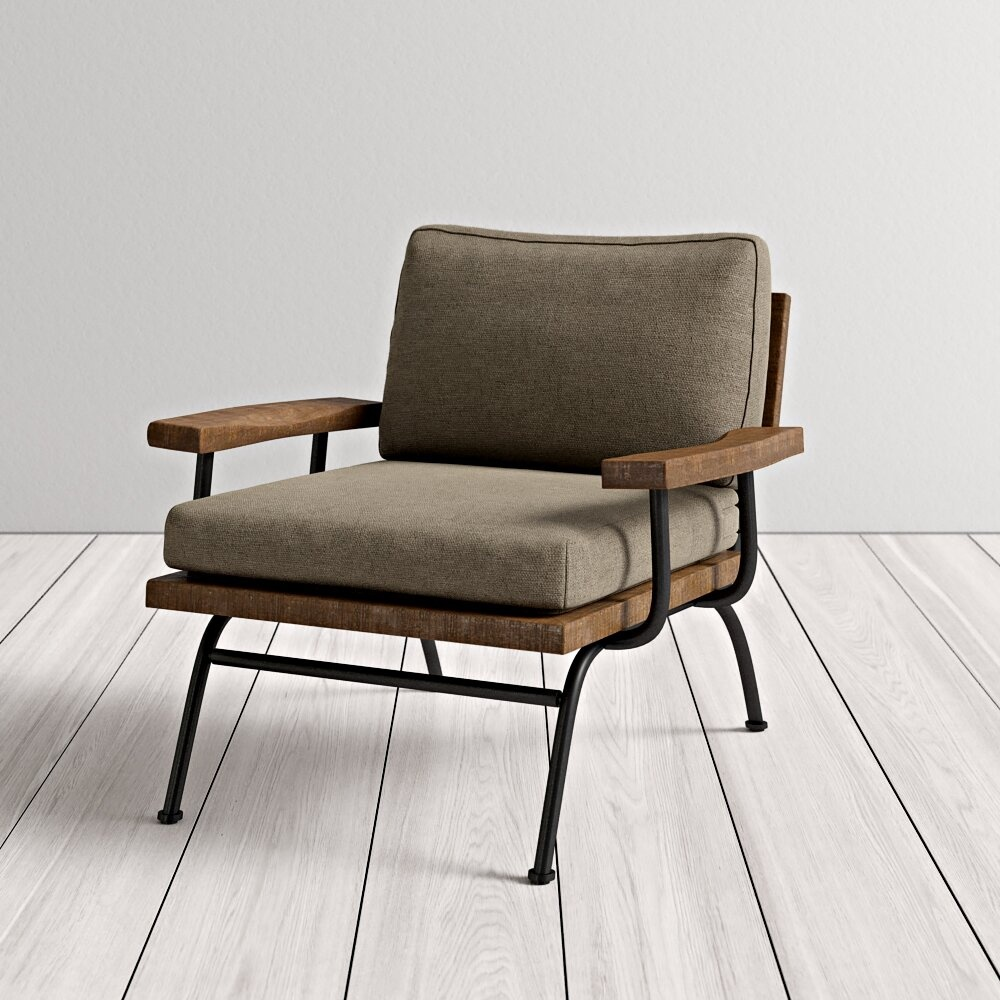obstacle: (147, 226, 801, 883)
